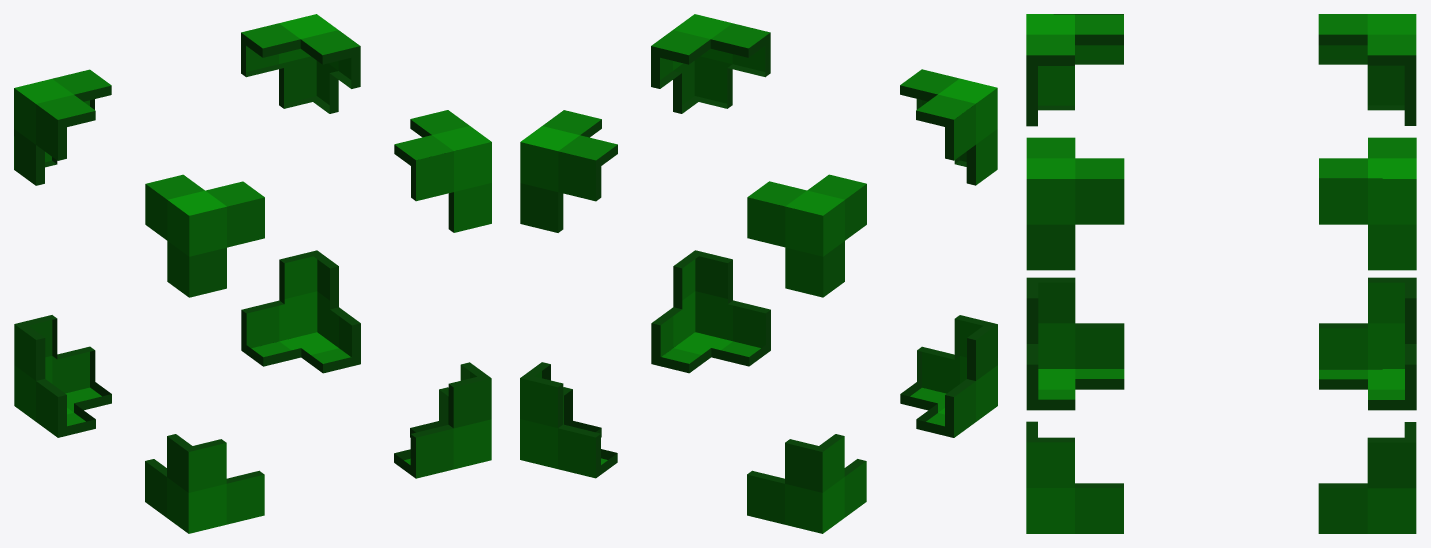
The model's file is SM_PotionDecals_PotionDecal_Metal_Square.glb.
The picture shows the model from 3 angles, left to right: view 1: azimuth 30°, elevation 25°; view 2: azimuth 150°, elevation 25°; view 3: azimuth 270°, elevation 25°; orthographic projection. The views are drawn at different scales.
Visible parts, largest first — view 1: SM_PotionDecals_PotionDecal_Metal_Square.001; view 2: SM_PotionDecals_PotionDecal_Metal_Square.001; view 3: SM_PotionDecals_PotionDecal_Metal_Square.001.
Part boxes in pixels (x1,y1,x2,y2): SM_PotionDecals_PotionDecal_Metal_Square.001: (14,14,491,533); SM_PotionDecals_PotionDecal_Metal_Square.001: (520,14,997,533); SM_PotionDecals_PotionDecal_Metal_Square.001: (1026,14,1416,533).
Size of the model in its own units: 77.17 by 77.42 by 77.17.
Materials: 1 (1 with a texture image).
